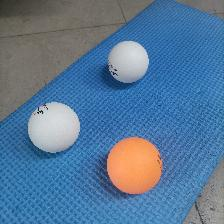WhiteBall: (26, 101, 79, 153), (107, 40, 148, 82)
YellowBall: (106, 137, 161, 194)
